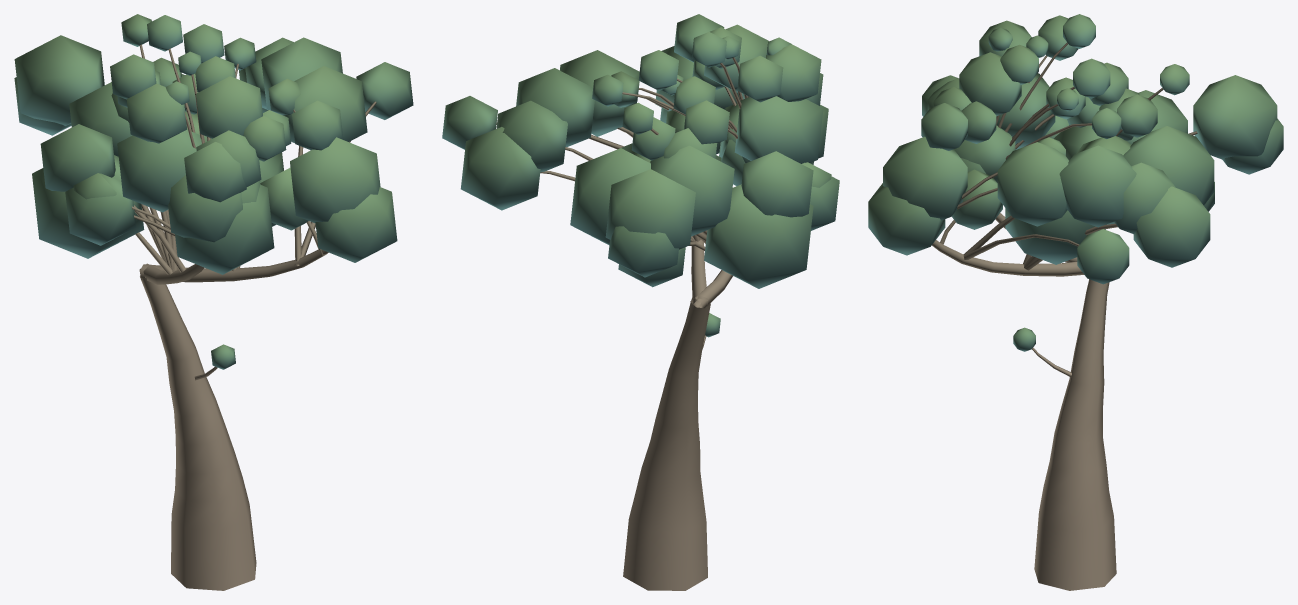
The model's file is seed_tree_k.glb.
The picture shows the model from 3 angles, left to right: view 1: azimuth 30°, elevation 25°; view 2: azimuth 150°, elevation 25°; view 3: azimuth 270°, elevation 25°; orthographic projection. The views are drawn at different scales.
Visible parts, largest first — view 1: seed_tree_k_LOD0; view 2: seed_tree_k_LOD0; view 3: seed_tree_k_LOD0.
Boxes of the visible parts, x1=… form: seed_tree_k_LOD0: x1=14, y1=14, x2=413, y2=590; seed_tree_k_LOD0: x1=442, y1=14, x2=839, y2=590; seed_tree_k_LOD0: x1=868, y1=14, x2=1283, y2=590.
Size of what is drawn, in the model's own units: 9.93 by 14.61 by 10.16.
